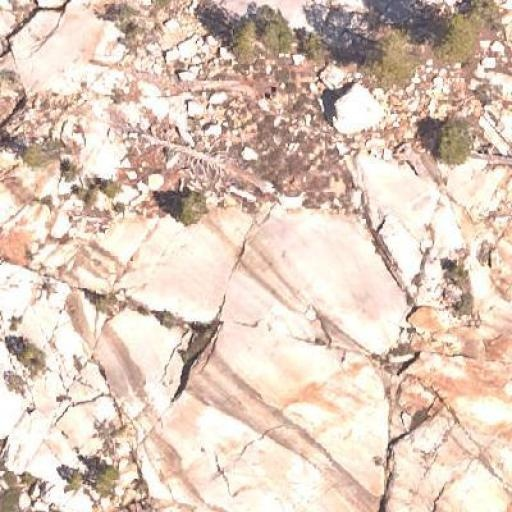tree-top: (348, 17, 428, 96), (416, 0, 490, 73), (424, 106, 478, 170), (163, 176, 215, 230), (228, 14, 265, 52), (260, 16, 300, 46)
